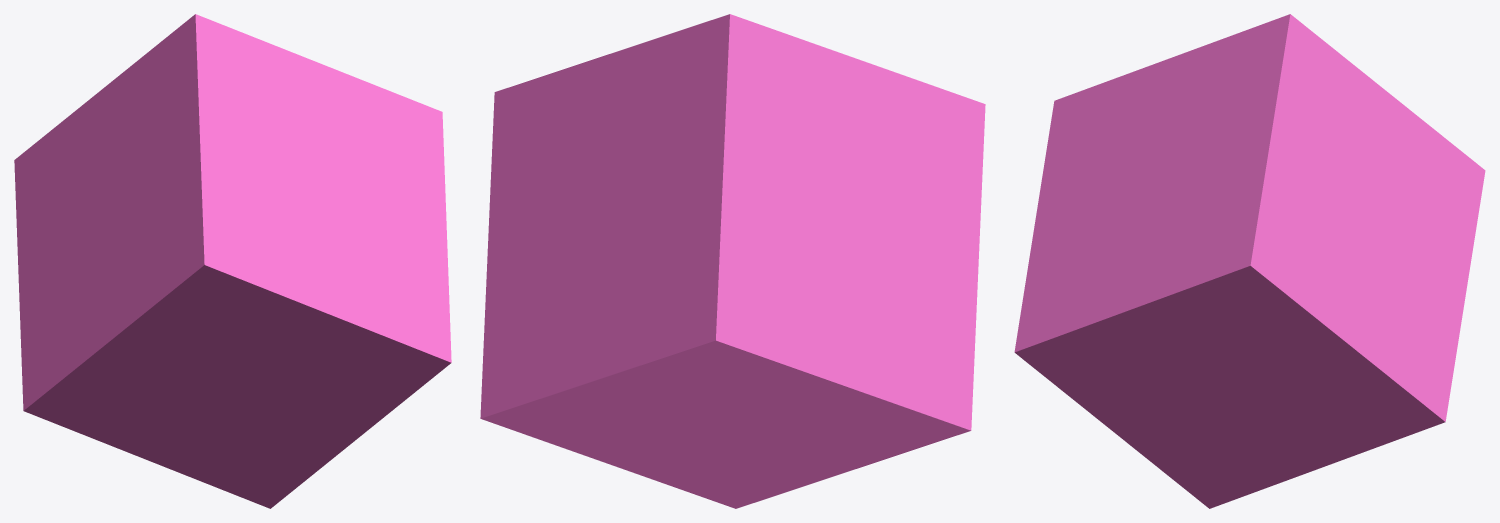
The model's file is InfoExpo_Clamor.gltf.
The picture shows the model from 3 angles, left to right: view 1: azimuth 30°, elevation 25°; view 2: azimuth 150°, elevation 25°; view 3: azimuth 270°, elevation 25°; orthographic projection. The views are drawn at different scales.
Parts seen in each view (by area): view 1: InfoExpo_Clamor; view 2: InfoExpo_Clamor; view 3: InfoExpo_Clamor.
Boxes of the visible parts, <box> form: InfoExpo_Clamor: <box>14,14,451,508</box>; InfoExpo_Clamor: <box>480,14,985,508</box>; InfoExpo_Clamor: <box>1014,14,1485,508</box>.
Bounding box in the file's own units: 0.3391 × 0.3661 × 0.3271.
